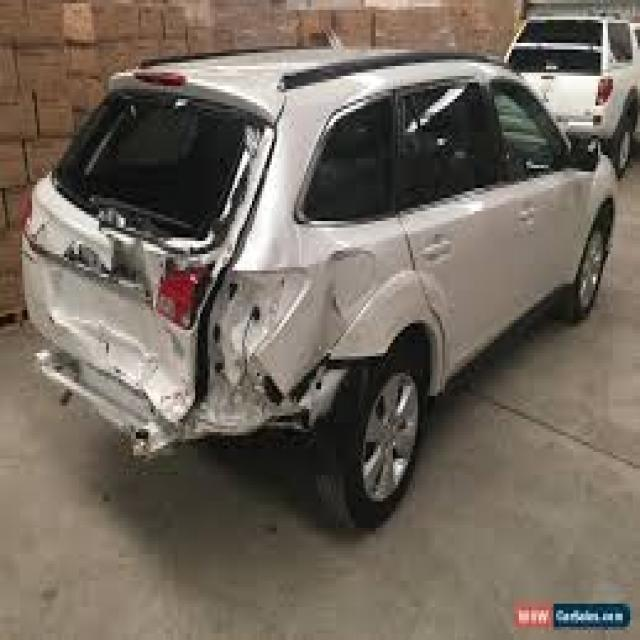minor: (60, 95, 270, 218)
moderate: (24, 239, 470, 476)
